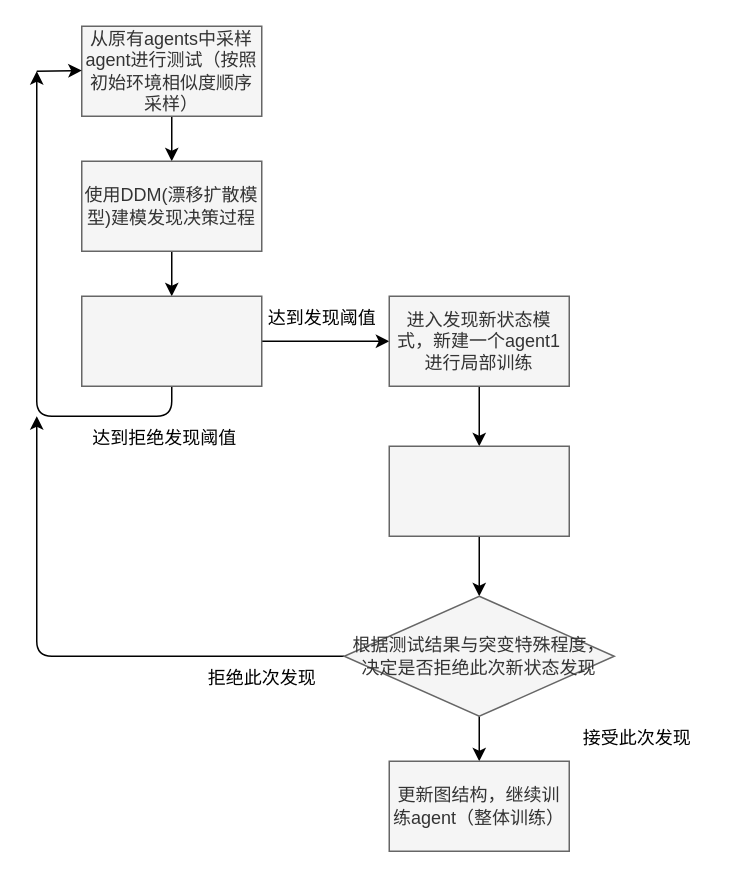
Image size: 738x878. Some labels were removed from this diagram. The centre of each missing label's shape, as x and y in pixels:
根据每次测试的结果得到"证据"值，达到阈值则决定是否发现: (171,340)
直到到达已知状态，分析序列，寻找最特殊的突变: (478,490)
